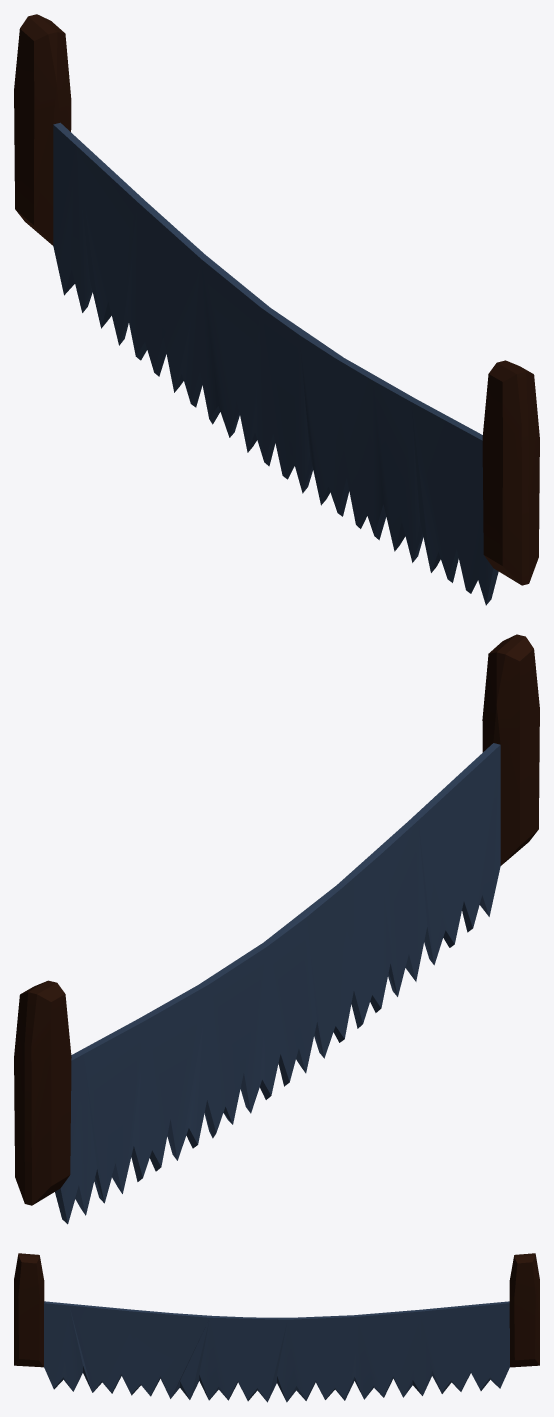
The model's file is Jigsaw.obj.
The picture shows the model from 3 angles, top to bottom: view 1: azimuth 30°, elevation 25°; view 2: azimuth 150°, elevation 25°; view 3: azimuth 270°, elevation 25°; orthographic projection. The views are drawn at different scales.
Parts seen in each view (by area): view 1: SM_Logging_Saw; view 2: SM_Logging_Saw; view 3: SM_Logging_Saw.
Part boxes in pixels (x1,y1,x2,y2): SM_Logging_Saw: [14, 14, 539, 605]; SM_Logging_Saw: [14, 634, 539, 1224]; SM_Logging_Saw: [14, 1253, 539, 1402].
Size of the model in its own units: 0.1017 by 0.7261 by 2.34.
